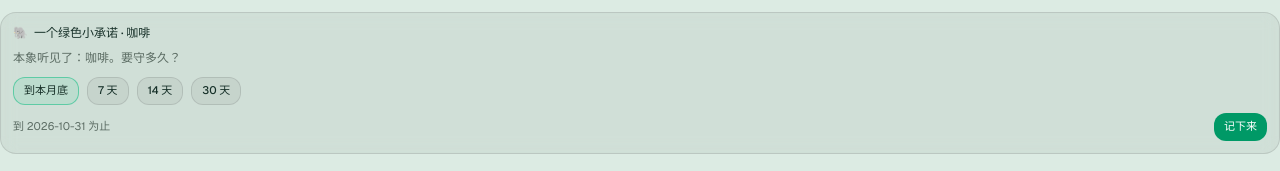
Test: CommitmentCard 登记流 › 上报失败静默 (卡面已确认, 不抛异常)
Click the button with test id "commitment-confirm". click: (1240, 126)
box: [1214,112,1267,140]
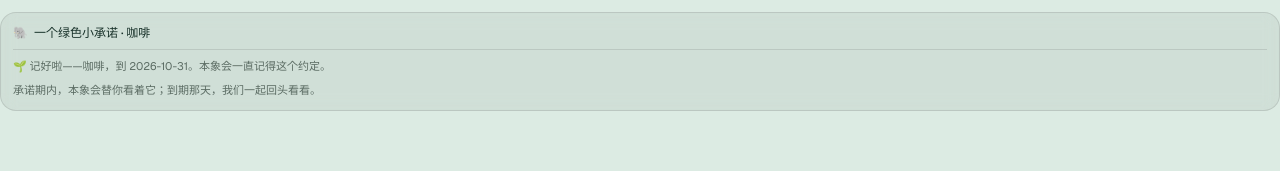
Now the element with test id "commitment-confirmed" is shown, box [13,49,1267,98]
